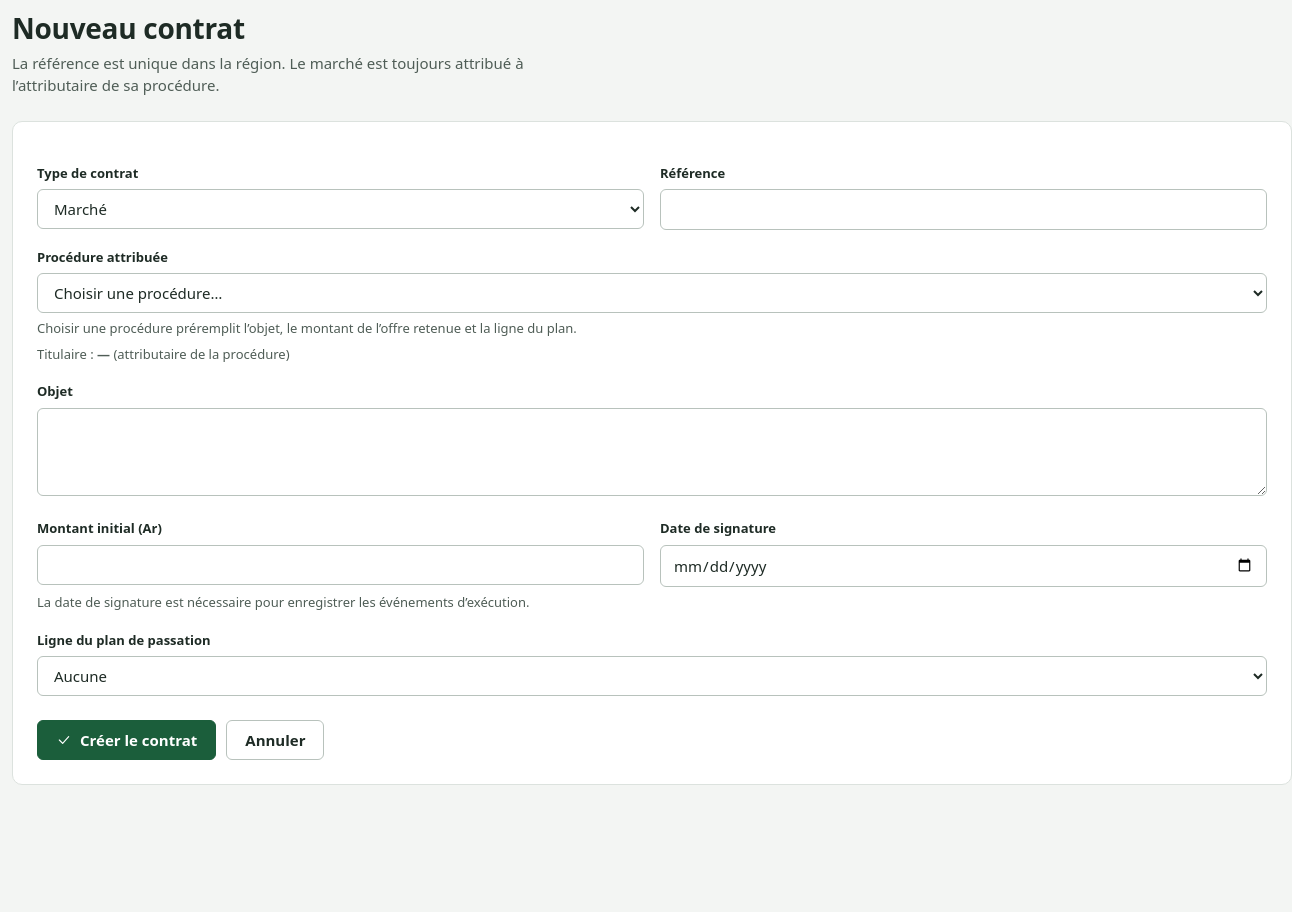
Test: ContractForm › affiche l’erreur métier et reste sur le formulaire
Step 1. Select "Convention" in the dropdown labelled "Type de contrat" → (340, 209), box left=37, top=189, right=644, bottom=229
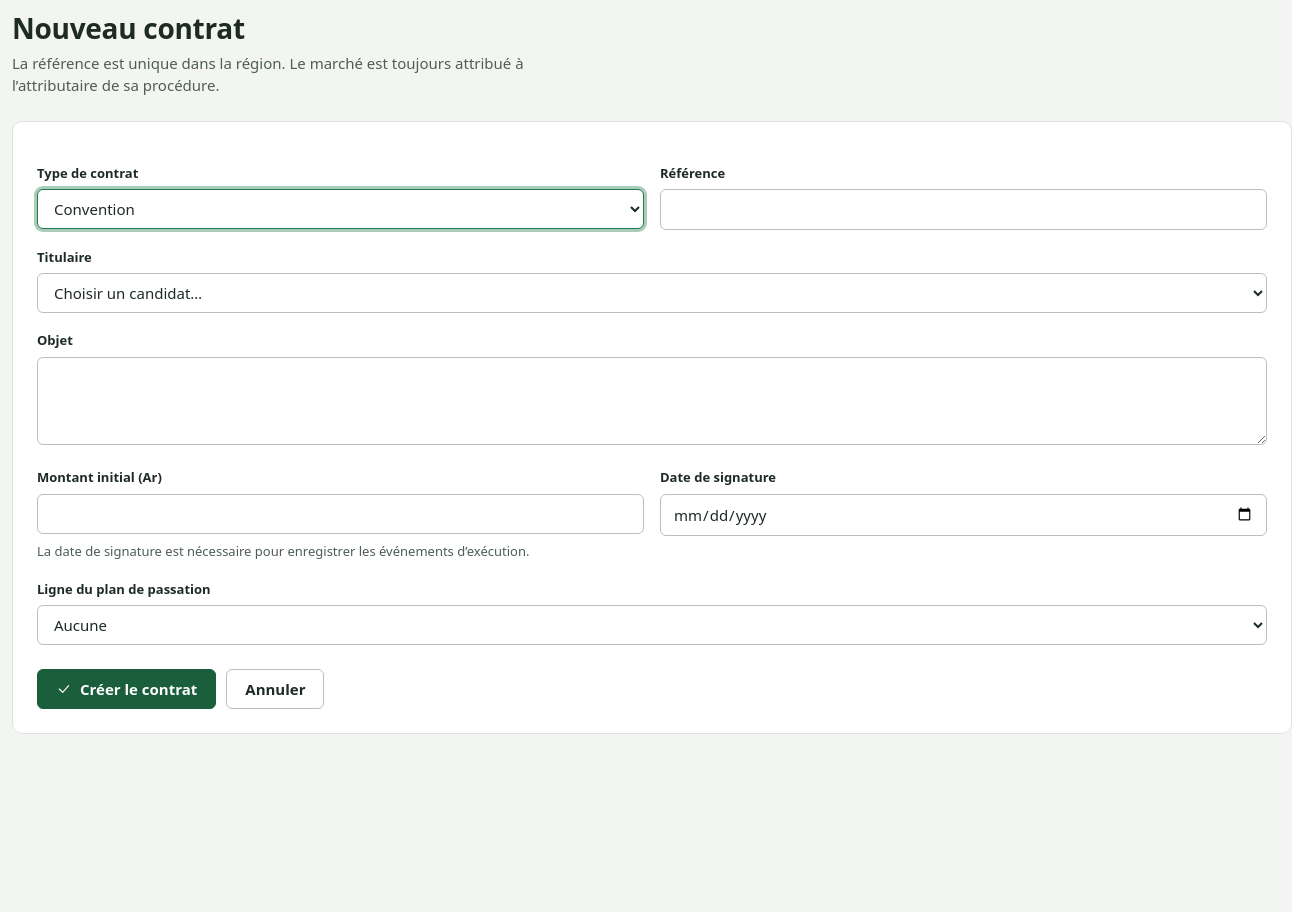
Step 2. Select "Beta" in the dropdown labelled "Titulaire" → (652, 293), box left=37, top=273, right=1267, bottom=313
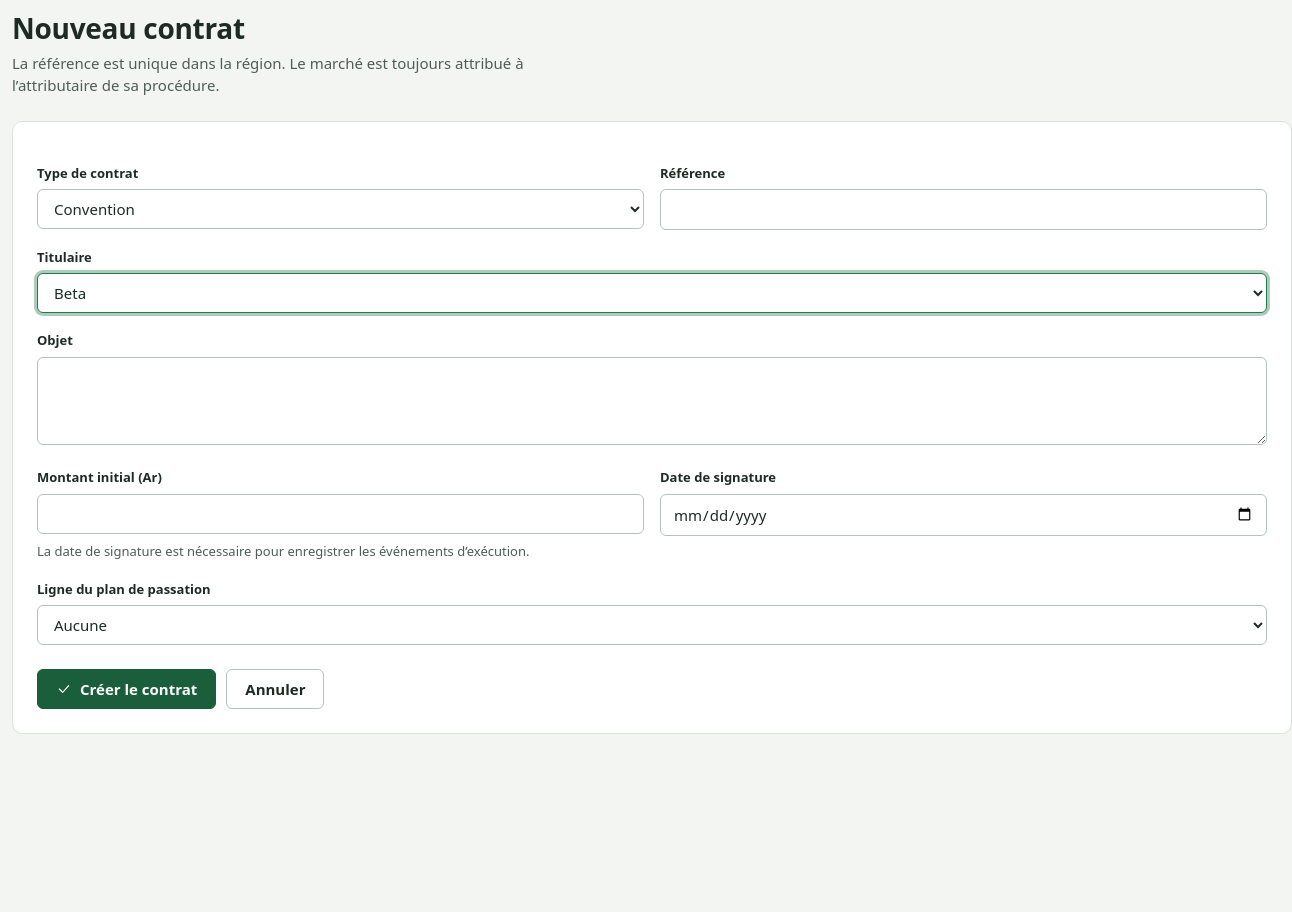
Step 3. Type "C-1" into the field labelled "Référence" → (964, 209), box left=660, top=189, right=1267, bottom=230
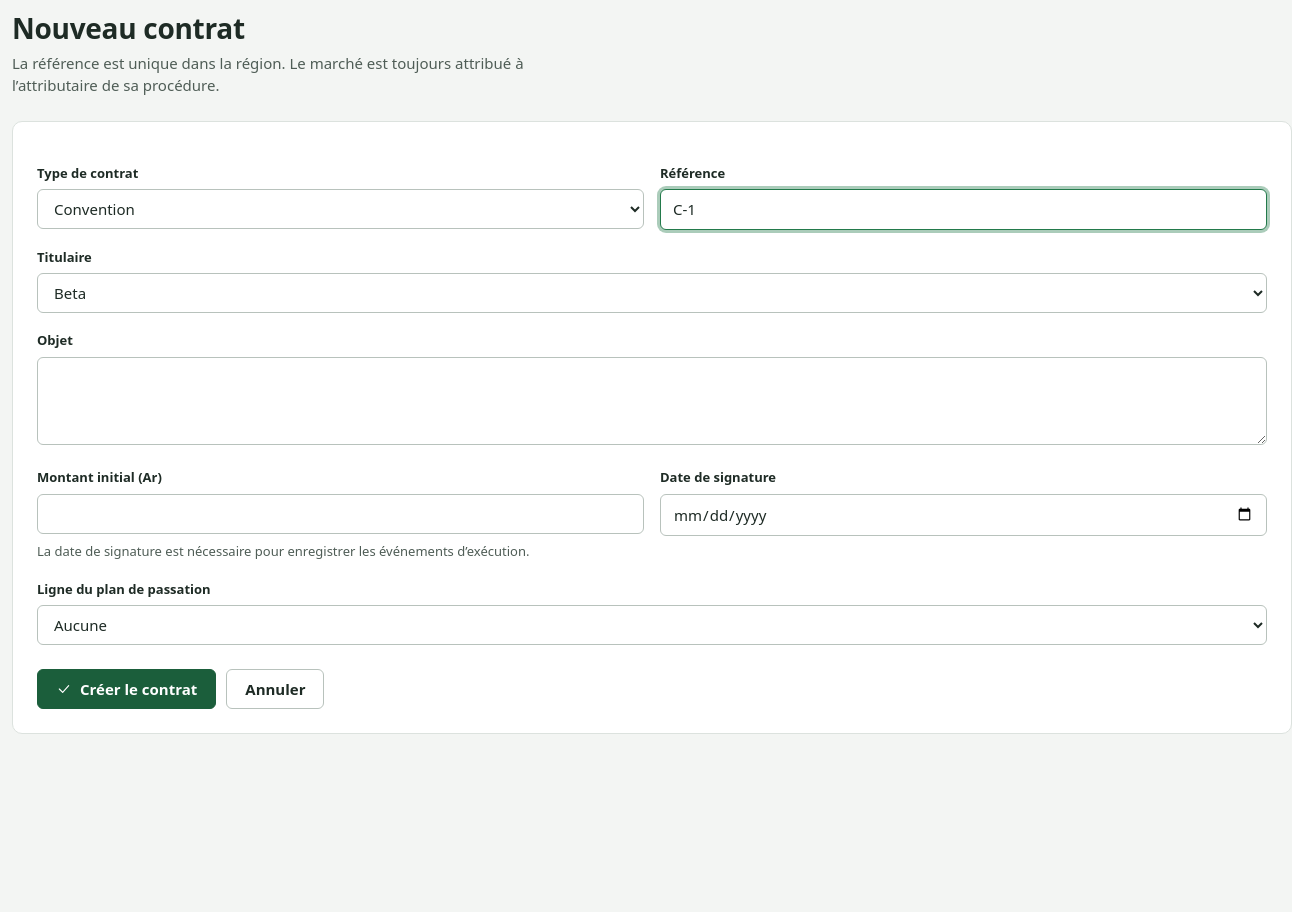
Step 4. Type "Objet" into the text box labelled "Objet" → (652, 401), box left=37, top=357, right=1267, bottom=445
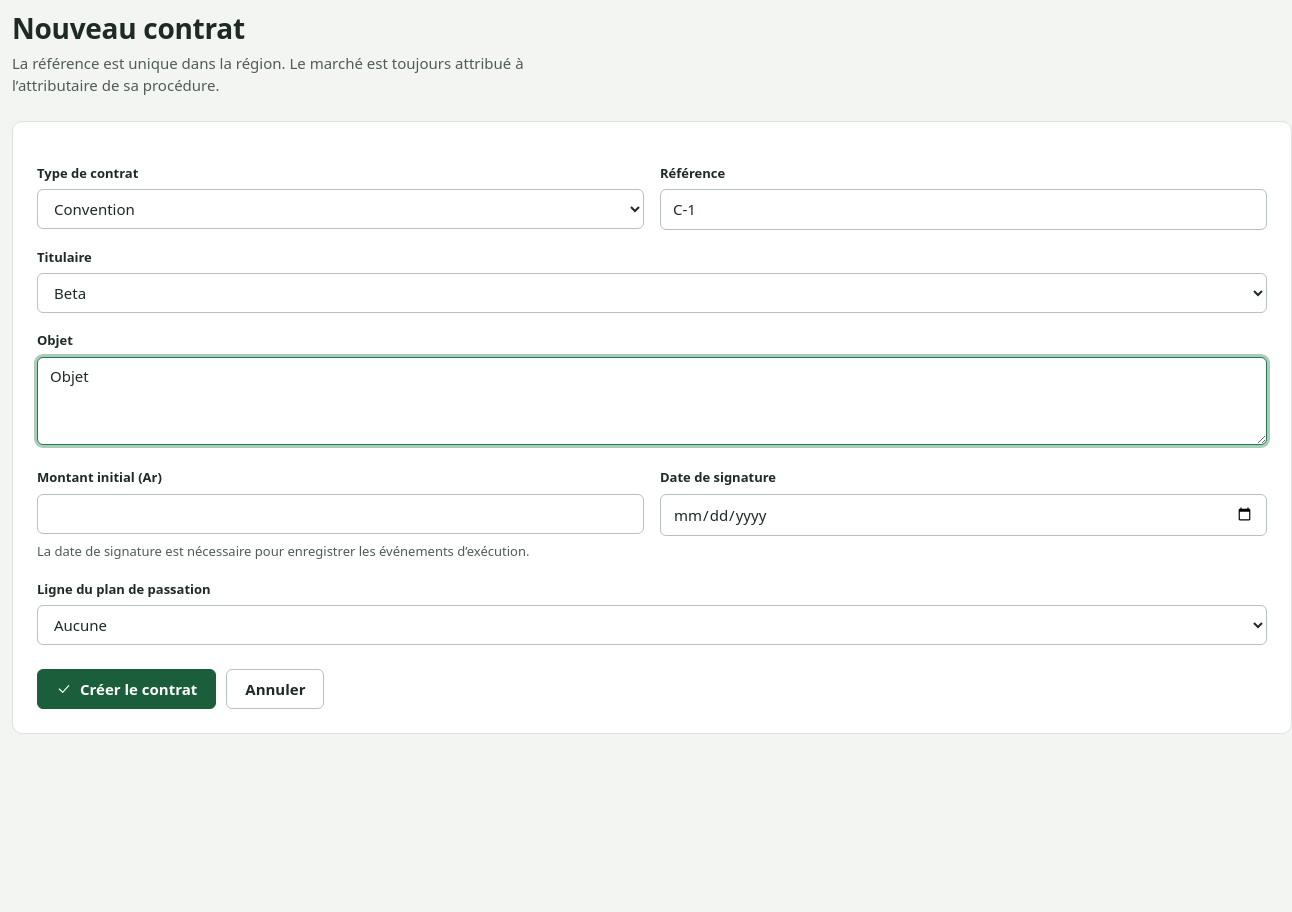
Step 5. Type "100" into the field labelled "Montant initial (Ar)" → (340, 514), box left=37, top=494, right=644, bottom=534
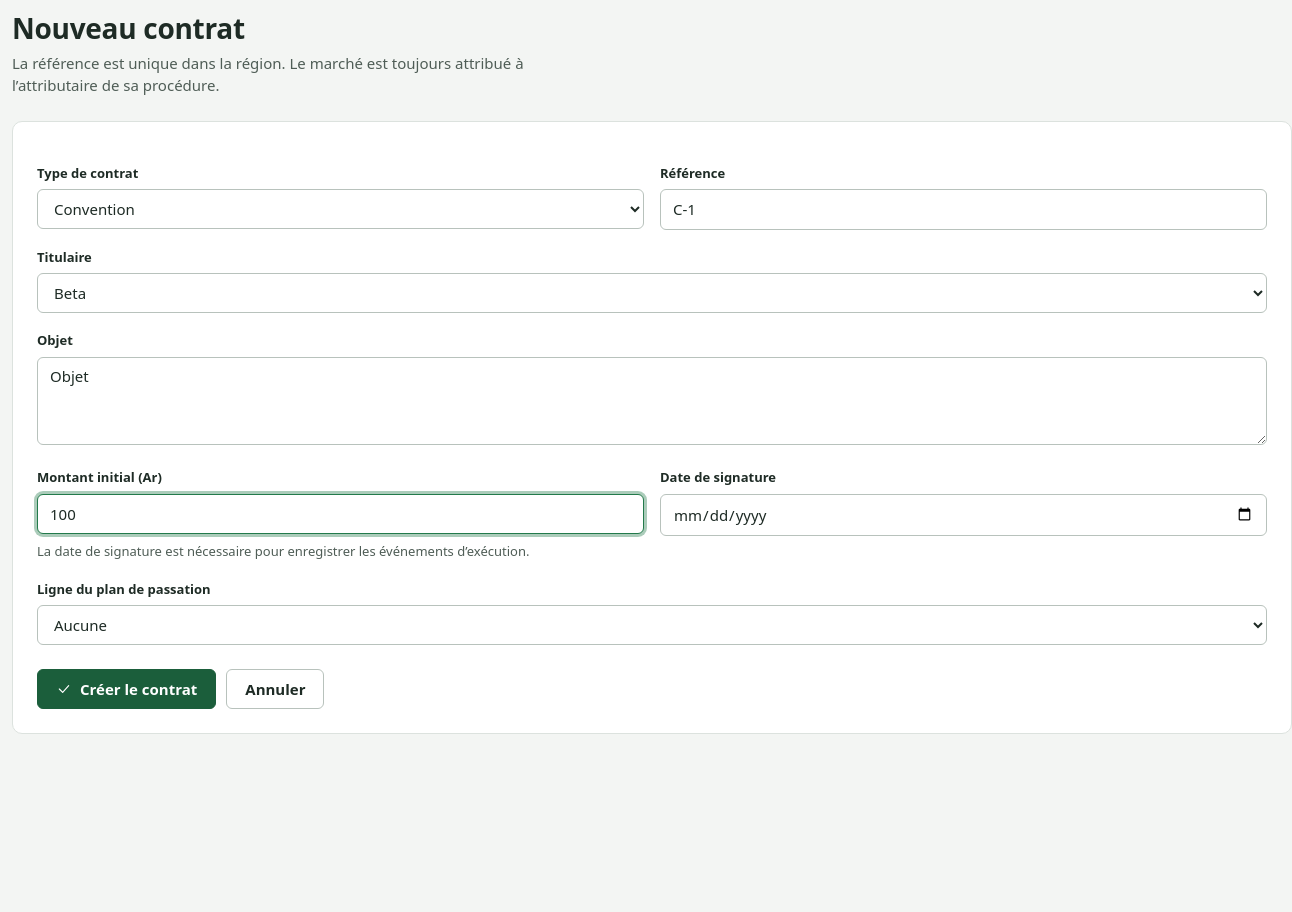
Step 6. Click the button "Créer le contrat" → (127, 689), box left=37, top=669, right=216, bottom=709
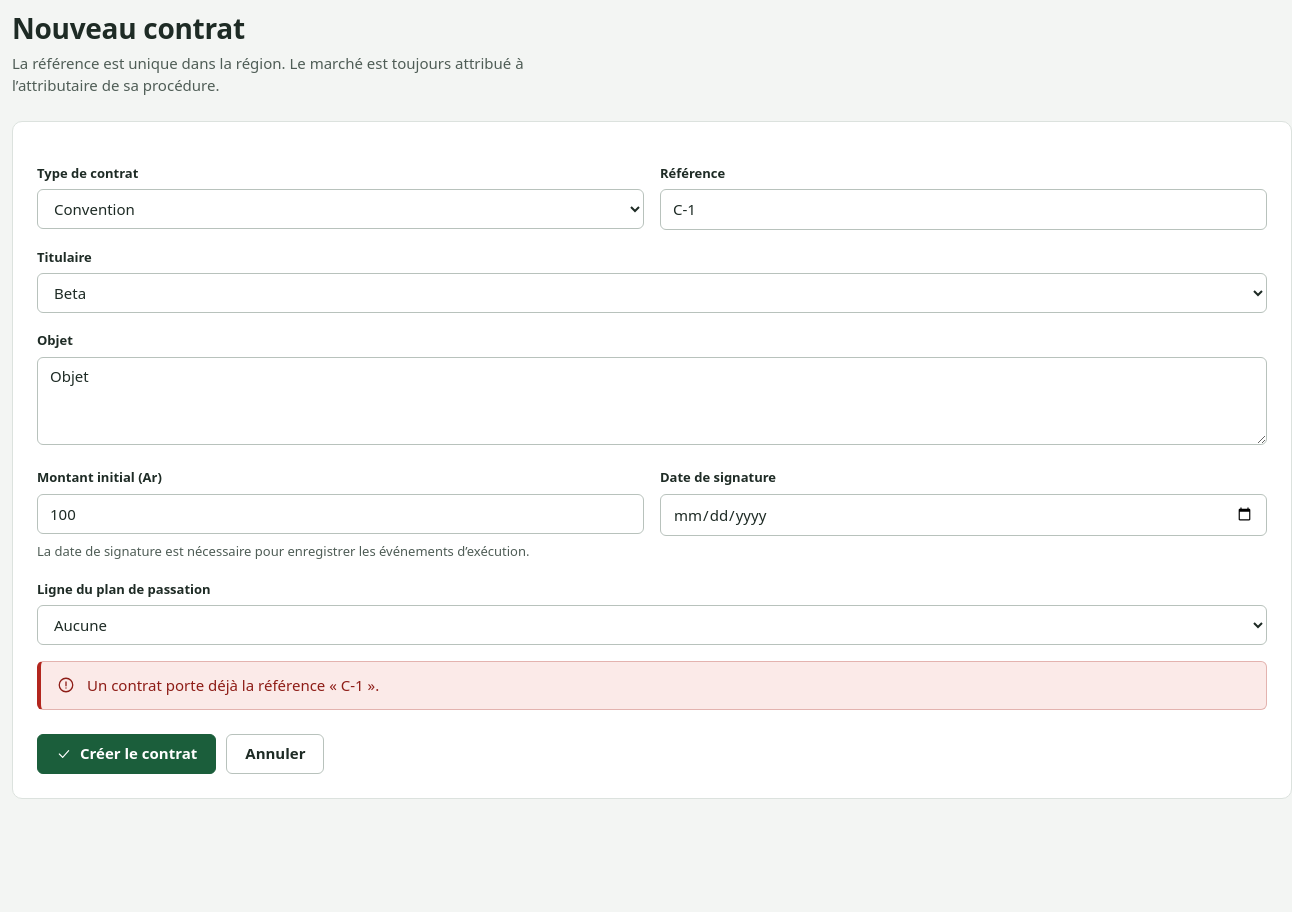
expect the message shows "porte déjà la référence": met, box left=87, top=675, right=379, bottom=695
